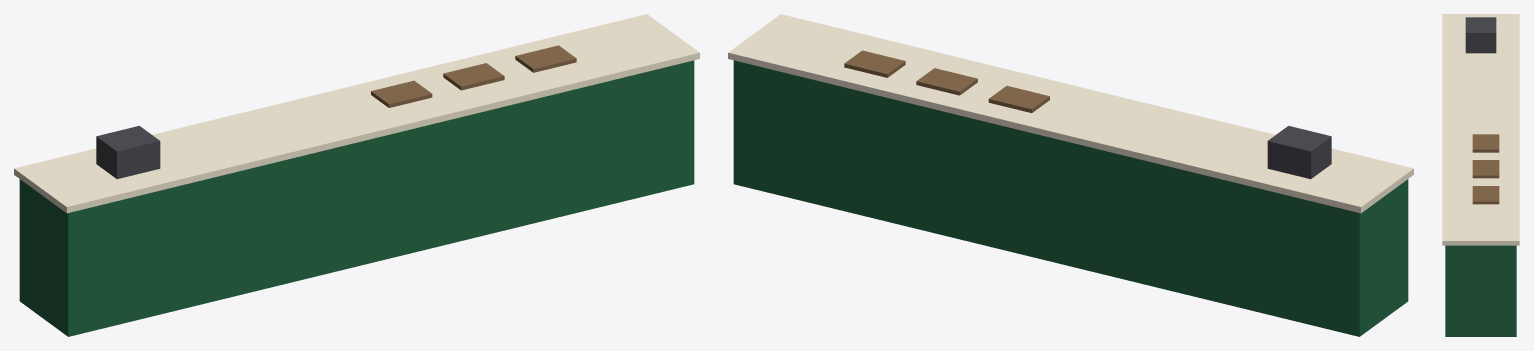
Rendered from food_wok.glb.
3 views of the same model, side by side, from view 1: azimuth 30°, elevation 25°; view 2: azimuth 150°, elevation 25°; view 3: azimuth 270°, elevation 25° (orthographic). The views are drawn at different scales.
Parts seen in each view (by area): view 1: Box1, Box2, Box3, Box4, Box5, Box6; view 2: Box1, Box2, Box3, Box4, Box5, Box6; view 3: Box2, Box1, Box3, Box6, Box4, Box5.
Part boxes in pixels (x1,y1,x2,y2): Box1: (19, 60, 694, 336); Box2: (14, 14, 699, 213); Box3: (96, 126, 160, 179); Box4: (515, 45, 576, 72); Box5: (443, 63, 504, 90); Box6: (371, 80, 432, 107); Box1: (733, 60, 1408, 336); Box2: (728, 14, 1413, 213); Box3: (1267, 126, 1331, 179); Box4: (844, 50, 905, 77); Box5: (916, 68, 977, 95); Box6: (988, 86, 1049, 112); Box2: (1442, 14, 1519, 245); Box1: (1445, 245, 1516, 336); Box3: (1465, 17, 1496, 53); Box6: (1472, 134, 1499, 152); Box4: (1472, 186, 1499, 204); Box5: (1472, 160, 1499, 178).
Bounding box in the file's own units: 5.26 × 1.27 × 0.76.
